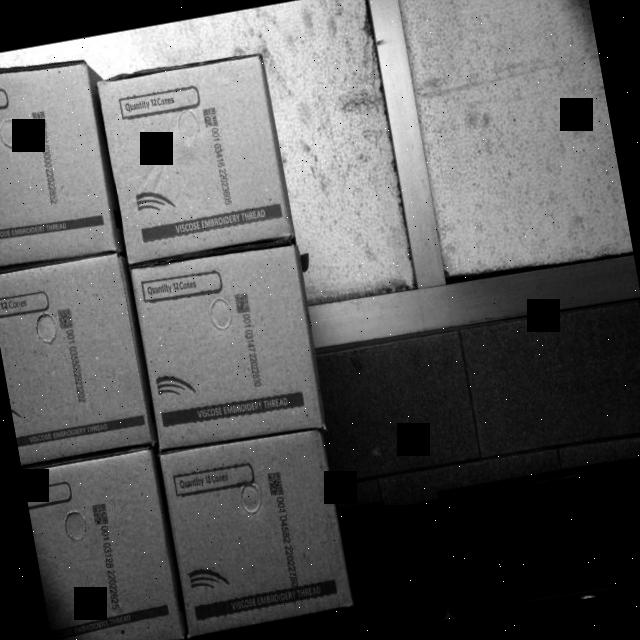box: (98, 50, 296, 268), (160, 427, 358, 638), (130, 242, 324, 454), (0, 250, 151, 463), (21, 446, 185, 640), (0, 49, 116, 268)
